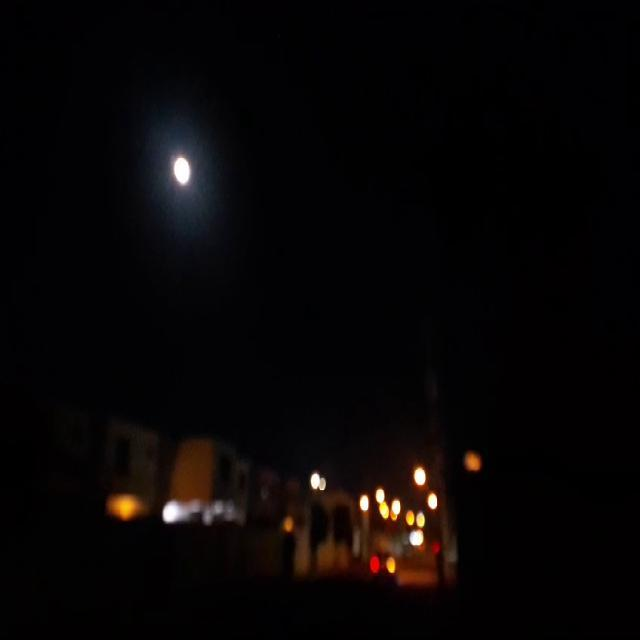moon: (171, 150, 191, 184)
